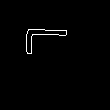L_E: (29, 36, 80, 69)
